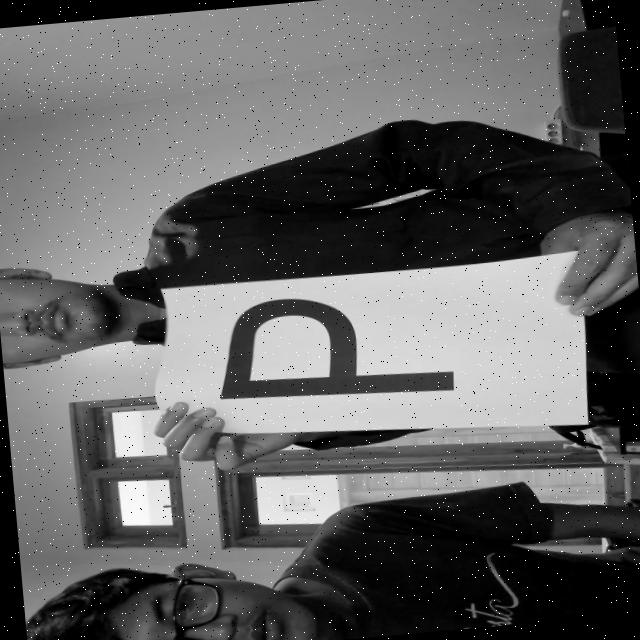p: (190, 276, 498, 420)
